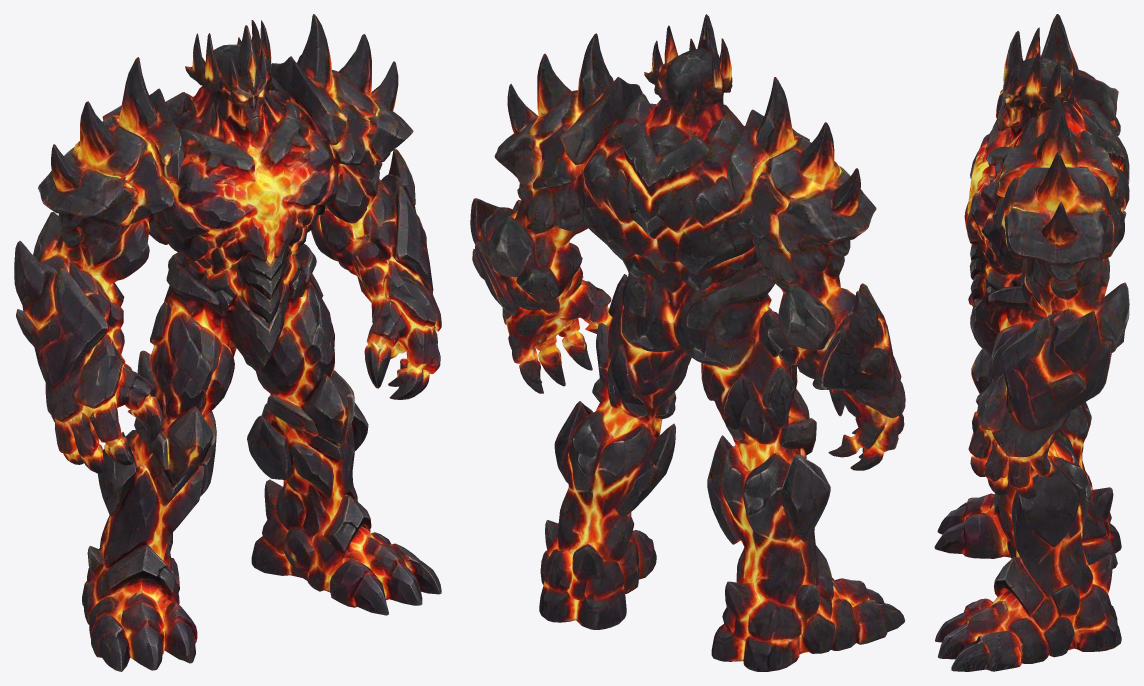
Rendered from lava_titan.glb.
3 renders of one model, left to right at view 1: azimuth 30°, elevation 25°; view 2: azimuth 150°, elevation 25°; view 3: azimuth 270°, elevation 25°, orthographic. The views are drawn at different scales.
Visible parts, largest first — view 1: Mesh_0; view 2: Mesh_0; view 3: Mesh_0.
Boxes of the visible parts, x1,y1,x2,y2 form: Mesh_0: (14, 14, 441, 671); Mesh_0: (470, 14, 905, 671); Mesh_0: (934, 14, 1129, 671).
Size of the model in its own units: 1.37 by 1.9 by 0.5946.
Materials: 1 (1 with a texture image).
